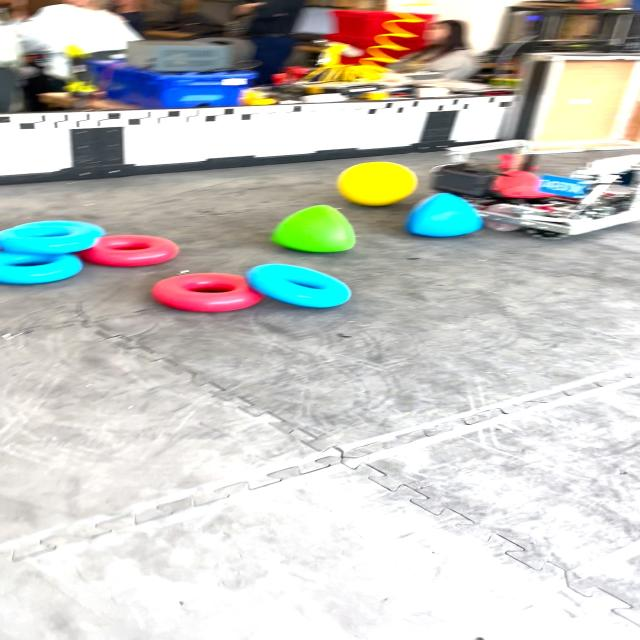Blue-Ring: (247, 264, 351, 308), (0, 220, 104, 254), (0, 251, 82, 284)
Red-Ring: (151, 272, 262, 311), (78, 235, 180, 266)
